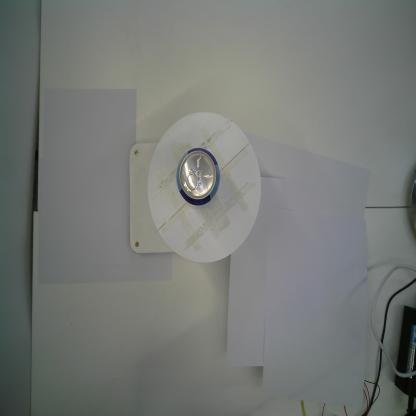Alcohol: (175, 147, 221, 210)
